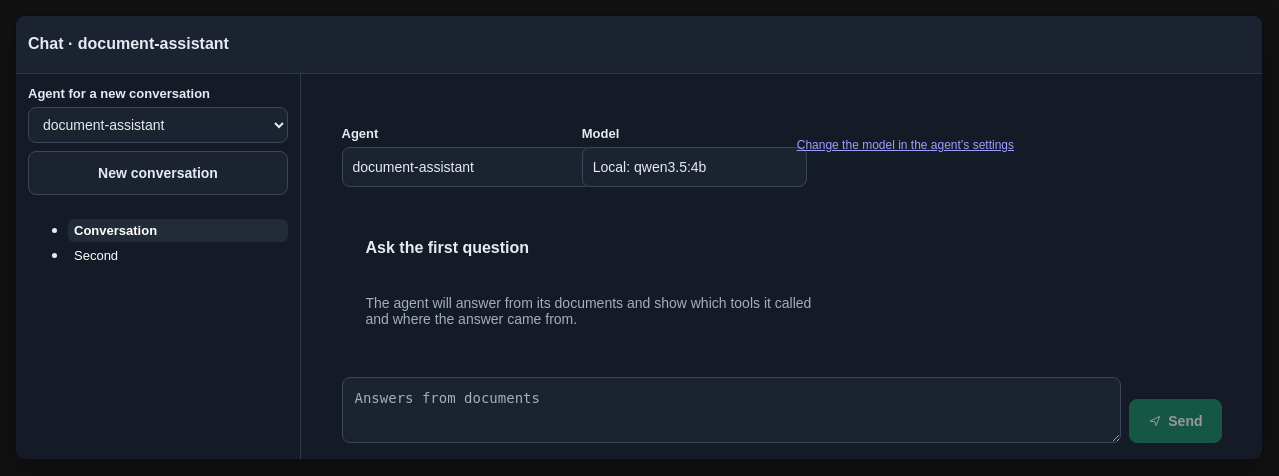
Scenario: Chat › switching to another conversation closes the subscription and doesn’t stop the answer
In the text box with placeholder "Answers from documents": [731, 410] box [342,376,1121,442], type "question"
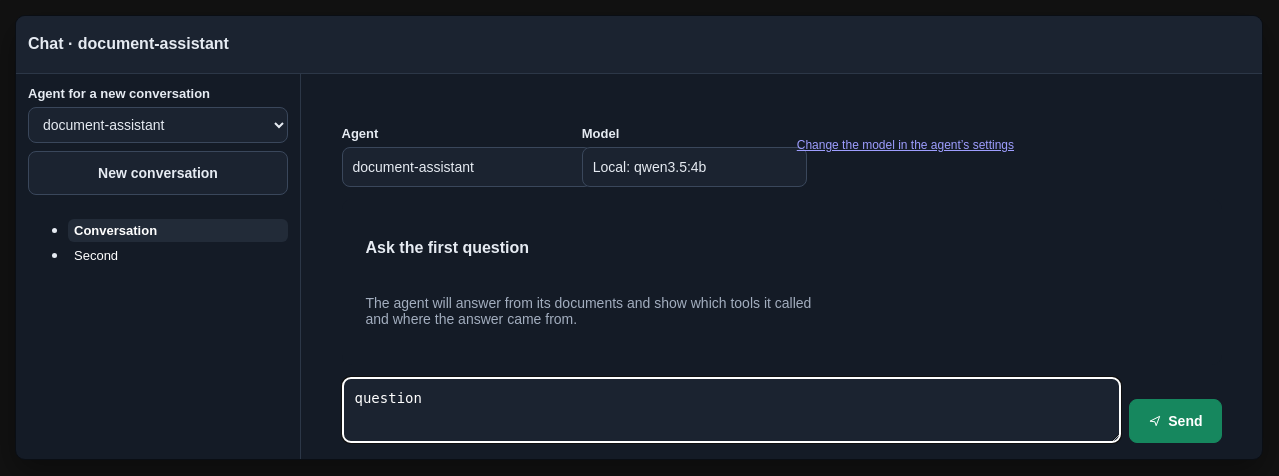
Click the button "Send": [1175, 420] box [1129,398,1222,442]
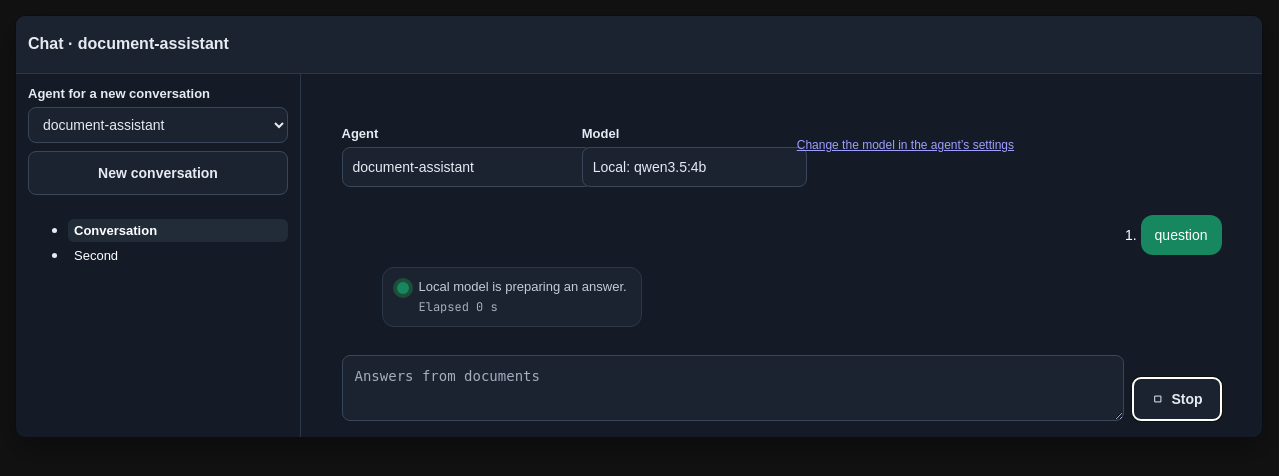
Check: the button "Stop" is shown, box [1132,377,1222,421]
Click the button "Second": [178, 255] box [68,244,288,266]
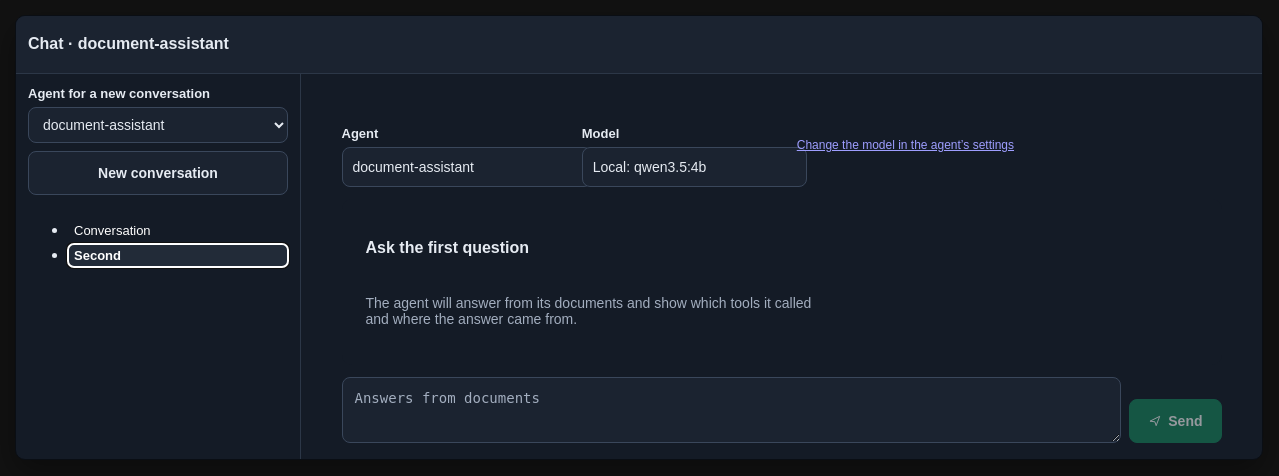
Check: the button "Send" is shown, box [1129,398,1222,442]
